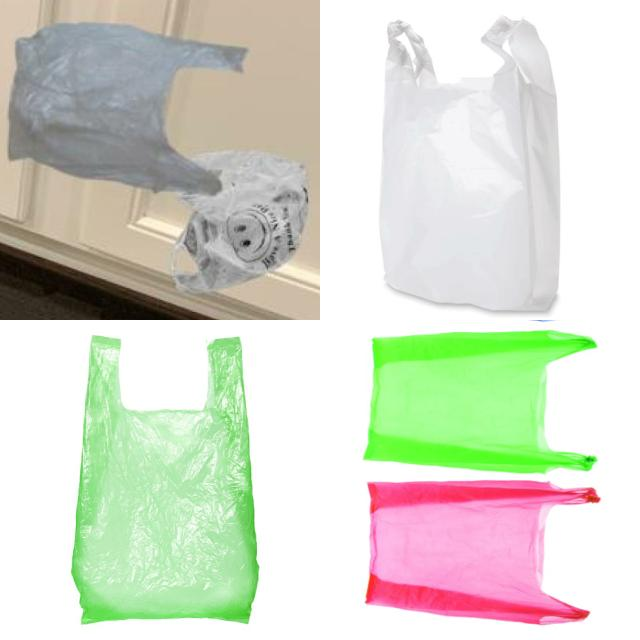Single-layer Plastic: (72, 336, 259, 624), (380, 18, 559, 310), (9, 22, 248, 194), (366, 481, 599, 624), (365, 330, 596, 472), (176, 151, 309, 289)
